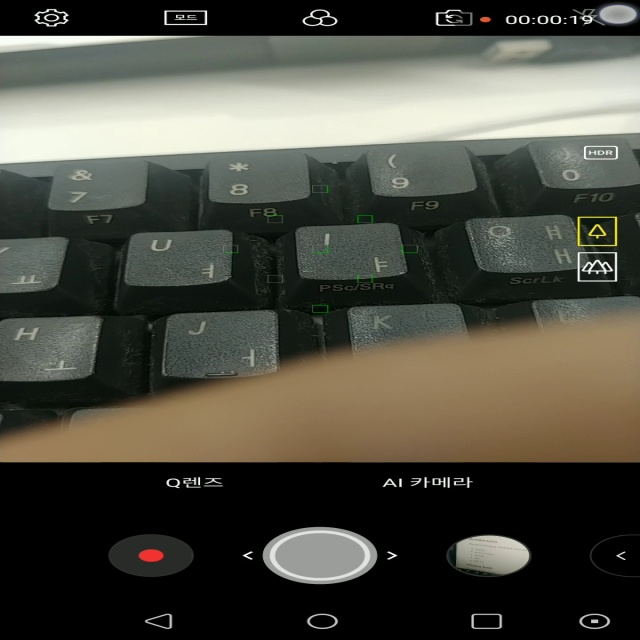Cursor: (596, 3, 640, 25)
